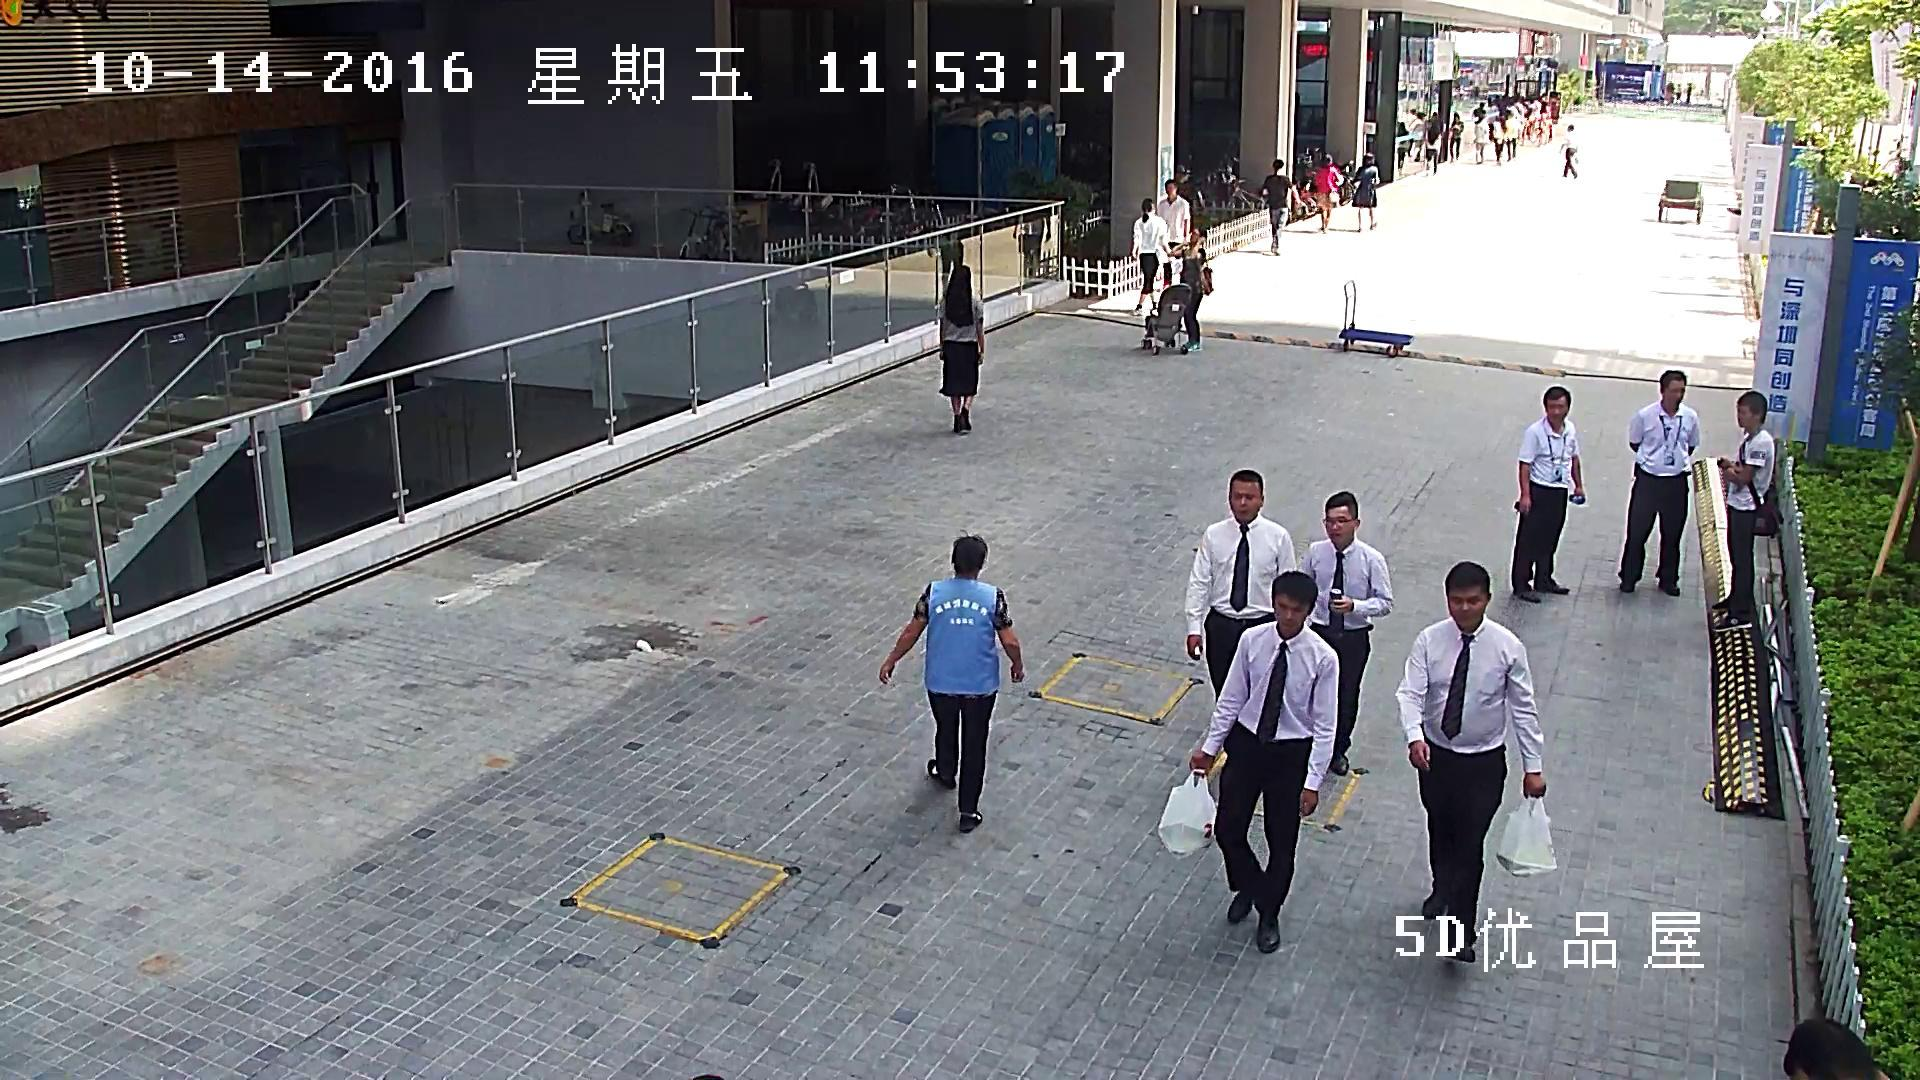person: (1155, 570, 1339, 951), (1394, 559, 1557, 963), (879, 528, 1024, 831), (1301, 491, 1395, 777), (1184, 470, 1299, 701), (1616, 371, 1701, 595), (1713, 391, 1783, 630), (1512, 386, 1586, 604), (938, 266, 984, 434), (1169, 226, 1213, 351), (1130, 197, 1171, 316), (1259, 158, 1305, 255), (1157, 179, 1190, 288), (1012, 215, 1051, 276), (1314, 153, 1343, 233), (925, 240, 964, 295), (1351, 152, 1379, 231), (1559, 124, 1579, 177), (1473, 116, 1489, 164), (1425, 125, 1440, 175), (1449, 113, 1464, 162), (1492, 117, 1504, 162), (1505, 117, 1518, 160), (1396, 122, 1409, 169), (1472, 102, 1485, 116), (1686, 83, 1691, 103)
